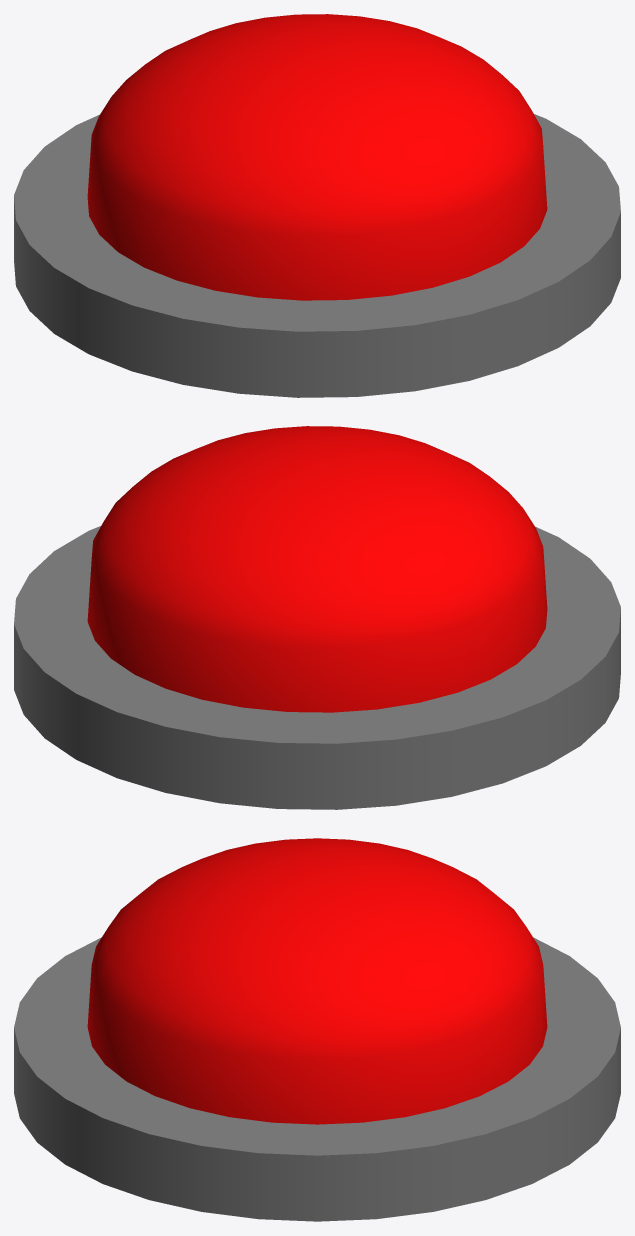
The model's file is Button.fbx.
3 views of the same model, one above another, from view 1: azimuth 30°, elevation 25°; view 2: azimuth 150°, elevation 25°; view 3: azimuth 270°, elevation 25° (orthographic).
Visible parts, largest first — view 1: Sphere001, Cylinder001; view 2: Sphere001, Cylinder001; view 3: Sphere001, Cylinder001.
Boxes of the visible parts, x1,y1,x2,y2 form: Sphere001: (87,14,547,300); Cylinder001: (14,114,620,397); Sphere001: (87,426,547,712); Cylinder001: (14,526,620,809); Sphere001: (87,838,547,1124); Cylinder001: (14,937,620,1221).
Size of the model in its own units: 38.93 by 15.53 by 38.93.
